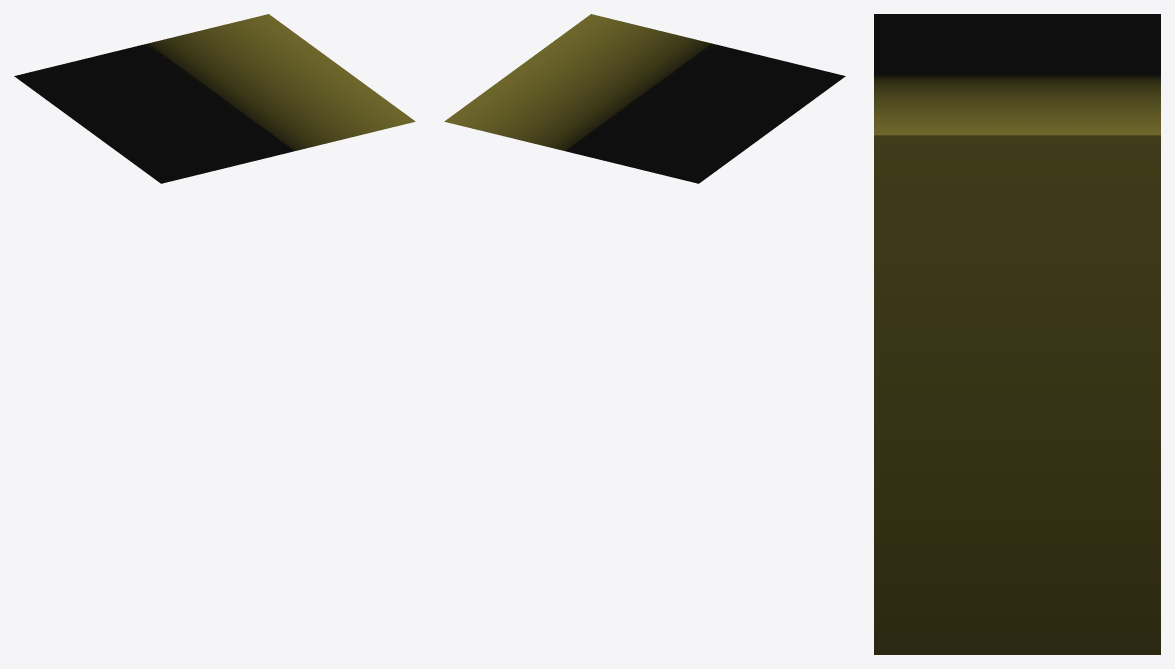
The picture shows the model from 3 angles, left to right: view 1: azimuth 30°, elevation 25°; view 2: azimuth 150°, elevation 25°; view 3: azimuth 270°, elevation 25°; orthographic projection. The views are drawn at different scales.
Size of the model in its own units: 1 by 2 by 1.
1 material, 1 textured.
